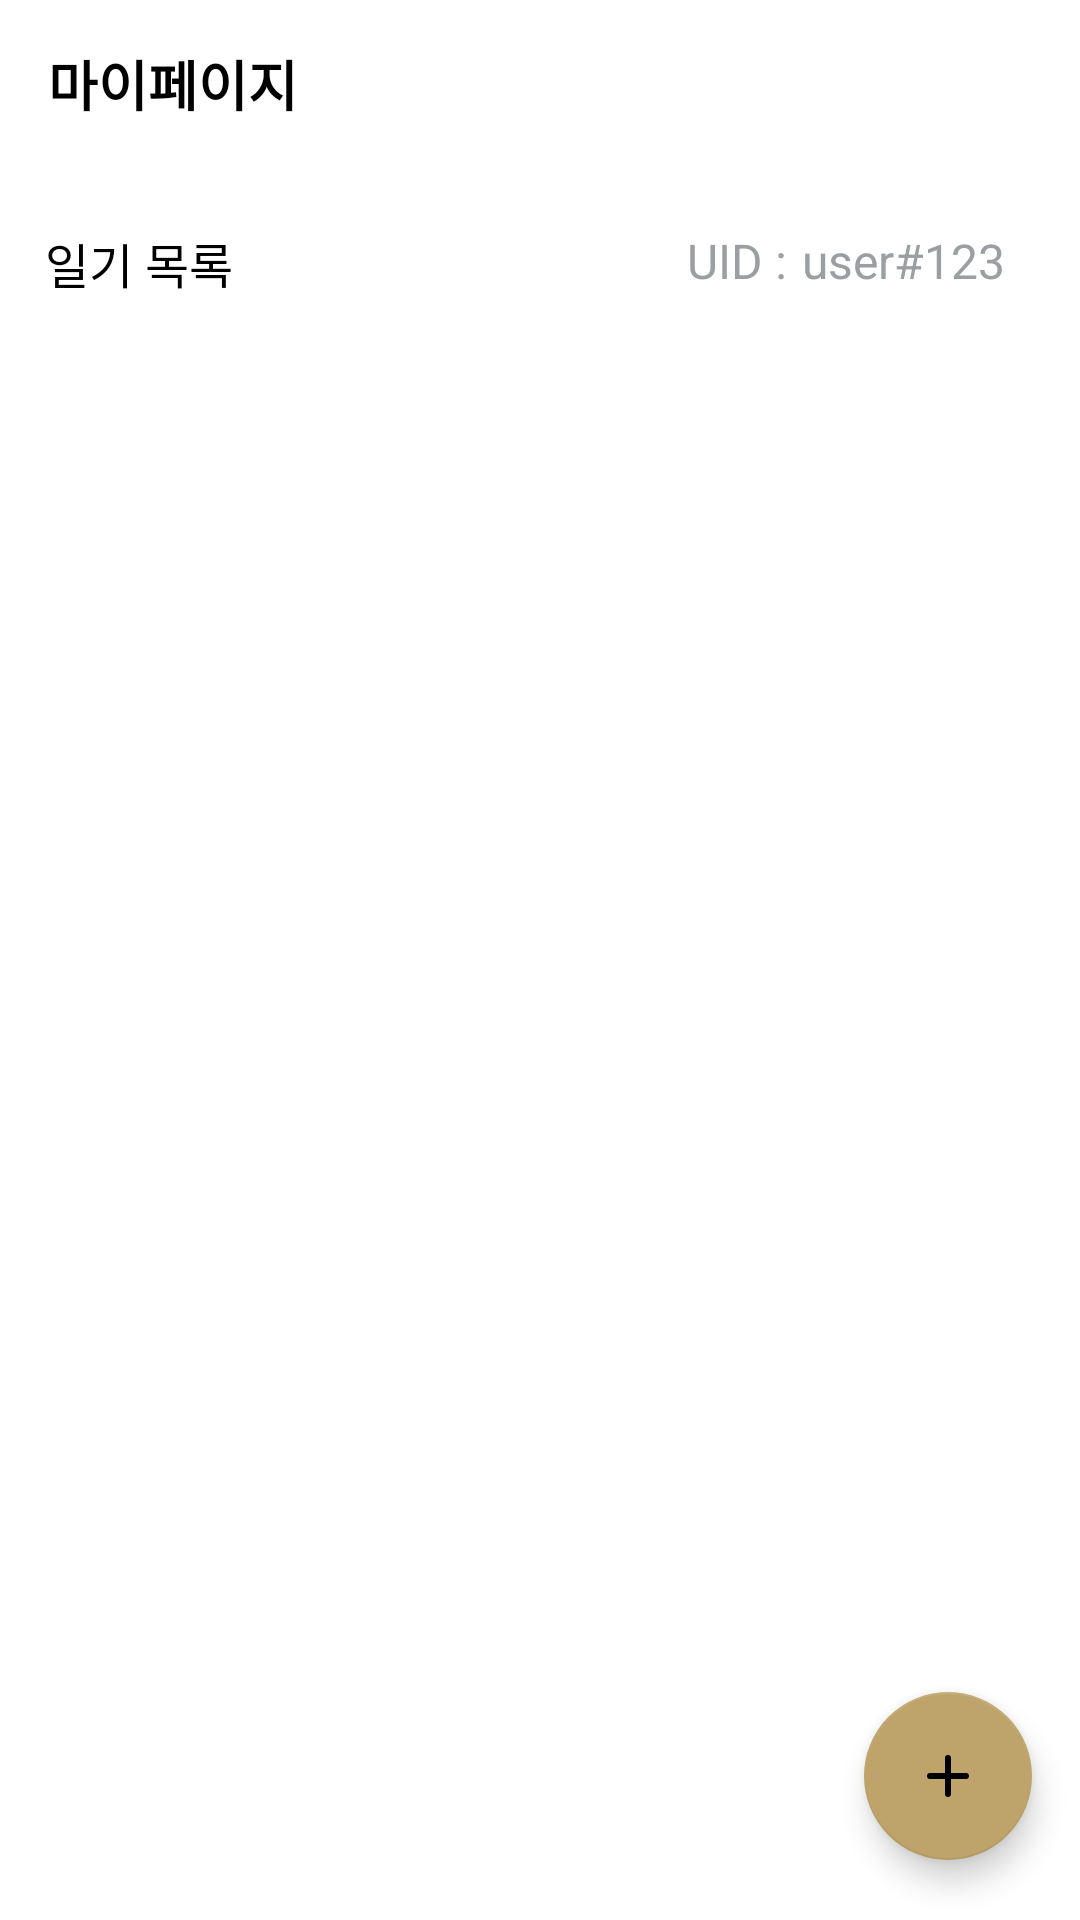

Named icons in this screenshot (1080 x 1920) and their centers, (x,y):
add: (948,1776)
